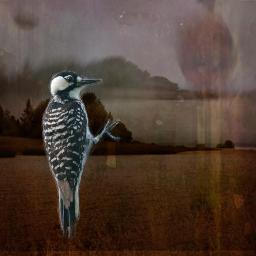Woodpecker: (39, 70, 124, 239)
